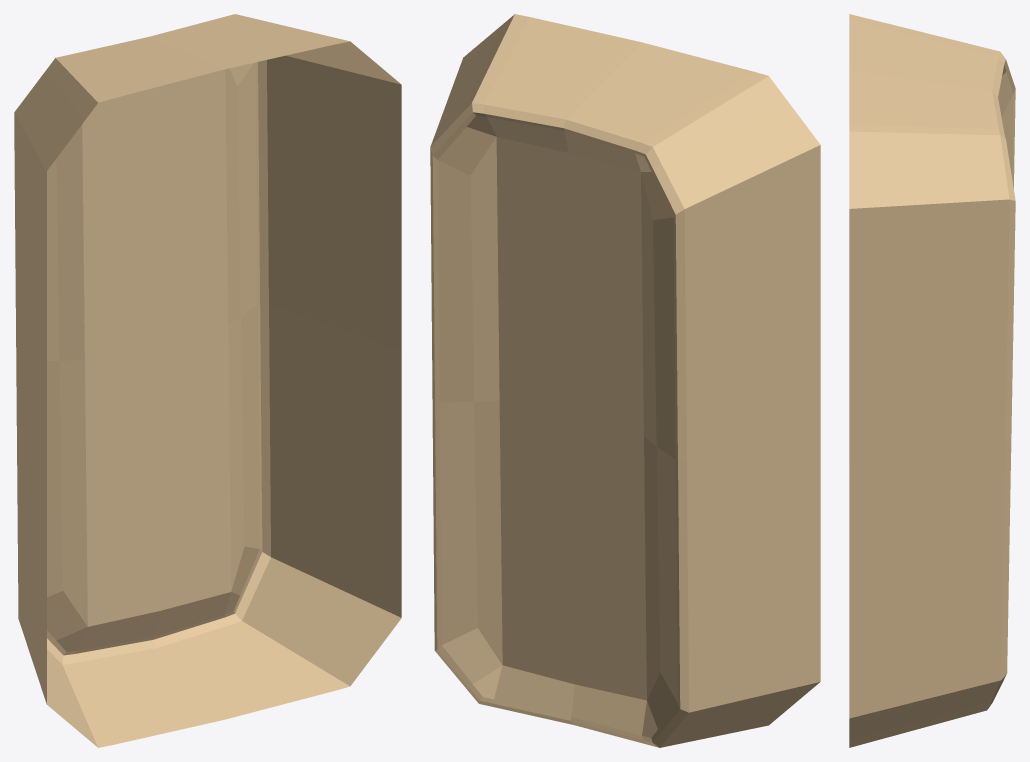
The model's file is lo-keycaptall.fbx.
The picture shows the model from 3 angles, left to right: view 1: azimuth 30°, elevation 25°; view 2: azimuth 150°, elevation 25°; view 3: azimuth 270°, elevation 25°; orthographic projection. The views are drawn at different scales.
Visible parts, largest first — view 1: Cube; view 2: Cube; view 3: Cube.
Boxes of the visible parts, x1,y1,x2,y2 form: Cube: (14,14,401,747); Cube: (430,14,820,747); Cube: (849,14,1015,747).
Size of the model in its own units: 2.3 by 4.02 by 0.9765.
